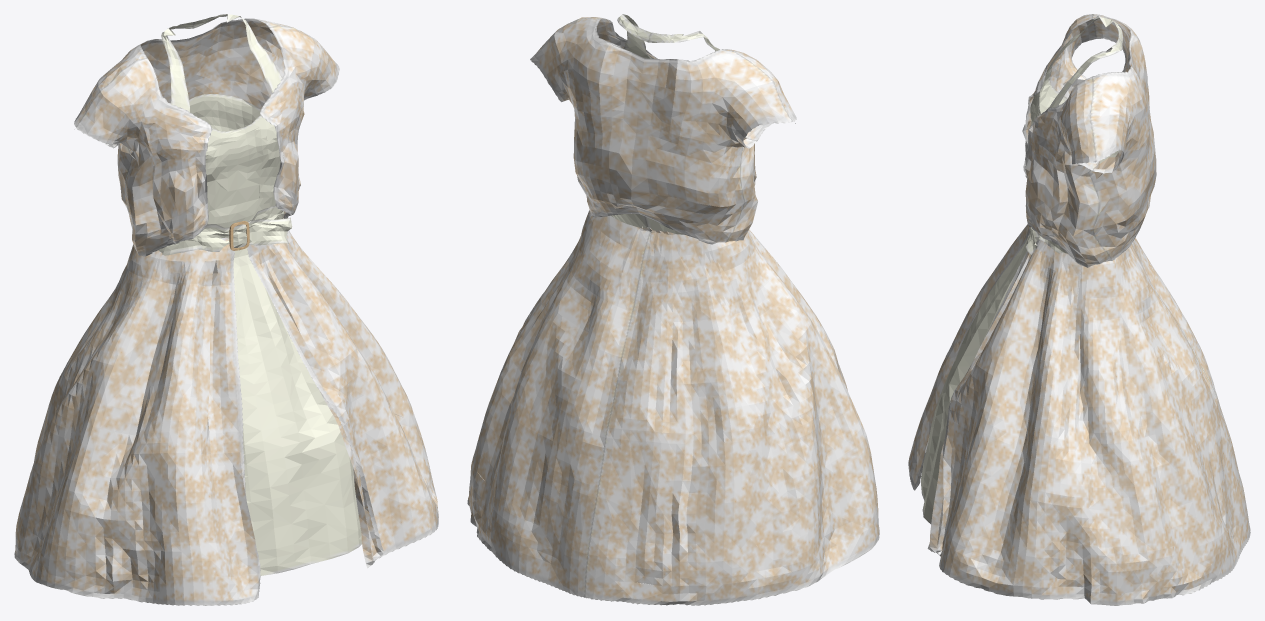
File: mhw_mindfront_f_dress_03.glb
The picture shows the model from 3 angles, left to right: view 1: azimuth 30°, elevation 25°; view 2: azimuth 150°, elevation 25°; view 3: azimuth 270°, elevation 25°; orthographic projection. The views are drawn at different scales.
Parts seen in each view (by area): view 1: mhw_mindfront_f_dress_03; view 2: mhw_mindfront_f_dress_03; view 3: mhw_mindfront_f_dress_03.
Part boxes in pixels (x1,y1,x2,y2): mhw_mindfront_f_dress_03: (14,14,438,605); mhw_mindfront_f_dress_03: (467,14,879,605); mhw_mindfront_f_dress_03: (908,14,1250,605).
Bounding box in the file's own units: 0.908 × 1.19 × 0.7368.
1 material, 1 textured.
